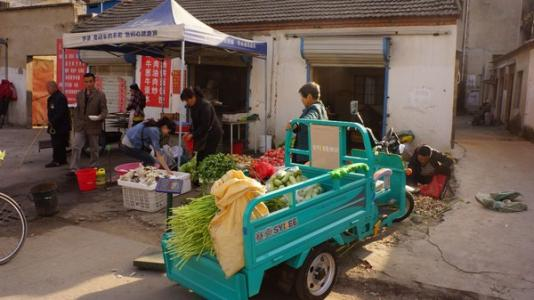vendors: (158, 98, 415, 298), (59, 0, 268, 172), (113, 159, 193, 214)
